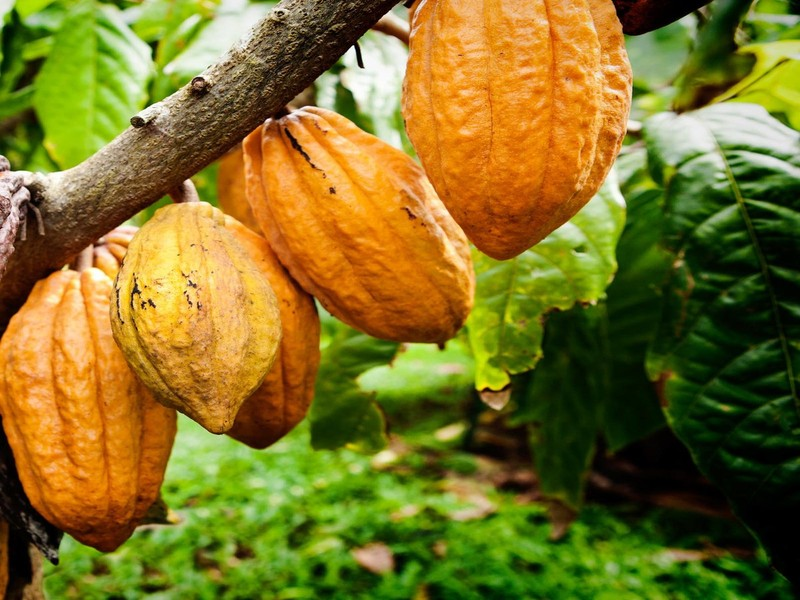Cacaopod: (107, 198, 285, 436)
